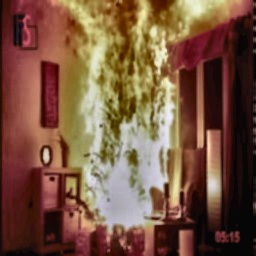fire: (49, 1, 203, 222)
